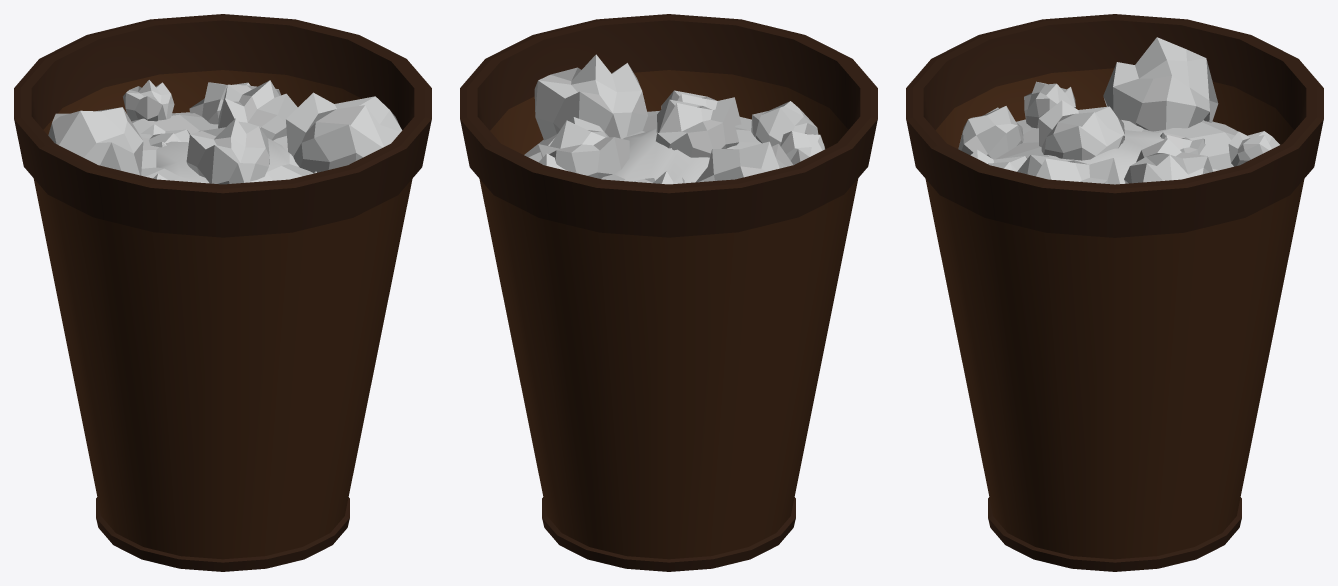
The model's file is Poubelle.fbx.
3 renders of one model, left to right at view 1: azimuth 30°, elevation 25°; view 2: azimuth 150°, elevation 25°; view 3: azimuth 270°, elevation 25°, orthographic.
Visible parts, largest first — view 1: Poubelle; view 2: Poubelle; view 3: Poubelle.
Part boxes in pixels (x1,y1,x2,y2): Poubelle: [14, 14, 431, 571]; Poubelle: [460, 14, 877, 571]; Poubelle: [906, 14, 1323, 571].
Bounding box in the file's own units: 40.48 × 44.44 × 39.86.
